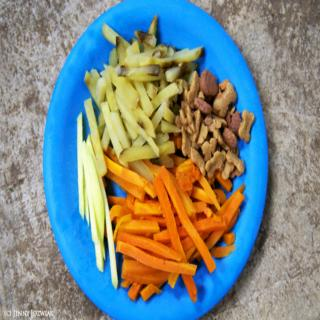Carrot: (103, 152, 247, 305)
French fries: (84, 11, 205, 182), (108, 160, 240, 288)
